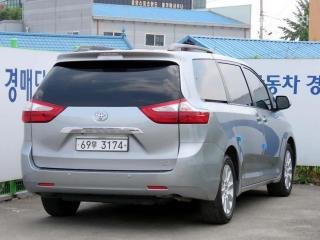1: (107, 140, 112, 150)
3: (101, 140, 107, 149)
4: (118, 140, 124, 150)
6: (80, 140, 86, 149)
7: (112, 140, 118, 149)
9: (86, 140, 91, 150)
plate: (71, 135, 133, 155)
무: (91, 140, 98, 150)
